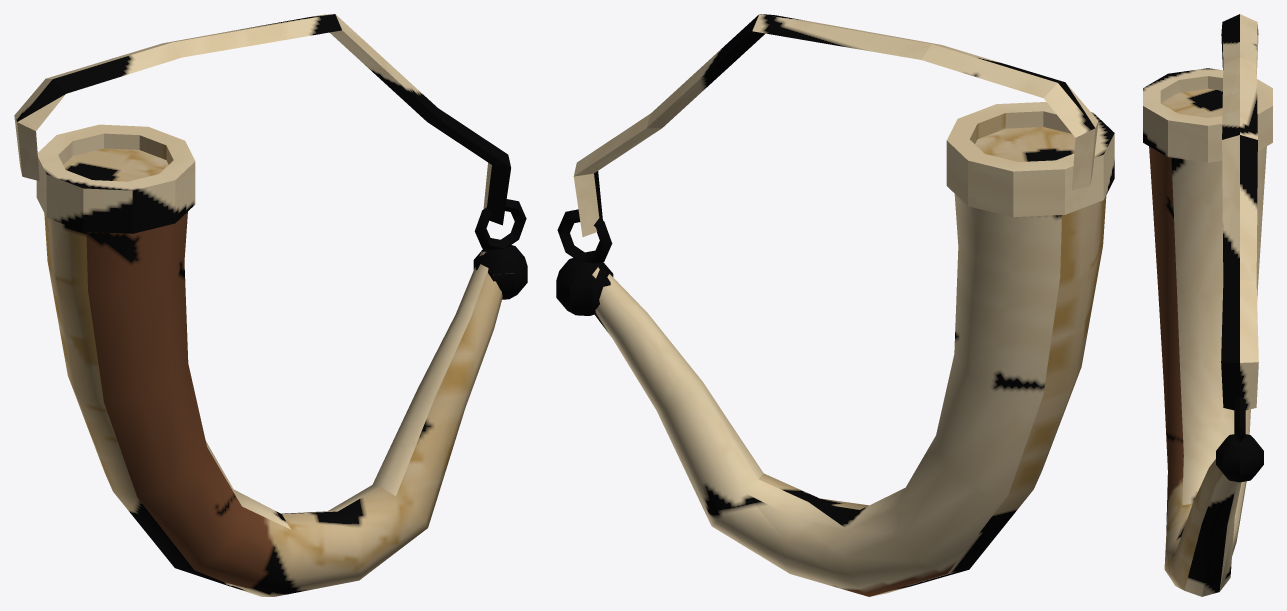
The model's file is drinking_horn.glb.
3 views of the same model, side by side, from view 1: azimuth 30°, elevation 25°; view 2: azimuth 150°, elevation 25°; view 3: azimuth 270°, elevation 25° (orthographic). The views are drawn at different scales.
Visible parts, largest first — view 1: horn, strap, rim_band, tip_cap, tip_loop; view 2: horn, strap, rim_band, tip_cap, tip_loop; view 3: horn, strap, rim_band, tip_cap, tip_loop.
Boxes of the visible parts, <box> form: horn: <box>44,148,502,596</box>; strap: <box>14,14,510,225</box>; rim_band: <box>36,124,195,233</box>; tip_cap: <box>473,245,527,299</box>; tip_loop: <box>474,199,526,250</box>; horn: <box>592,127,1106,596</box>; strap: <box>573,14,1098,236</box>; rim_band: <box>946,102,1114,217</box>; tip_cap: <box>556,258,613,315</box>; tip_loop: <box>557,209,612,263</box>; horn: <box>1149,88,1266,596</box>; strap: <box>1221,14,1258,410</box>; rim_band: <box>1143,68,1272,162</box>; tip_cap: <box>1216,434,1263,482</box>; tip_loop: <box>1234,397,1245,441</box>.
Size of what is drawn, in the model's own units: 0.4317 by 0.4493 by 0.1116.
3 materials, 3 textured.
